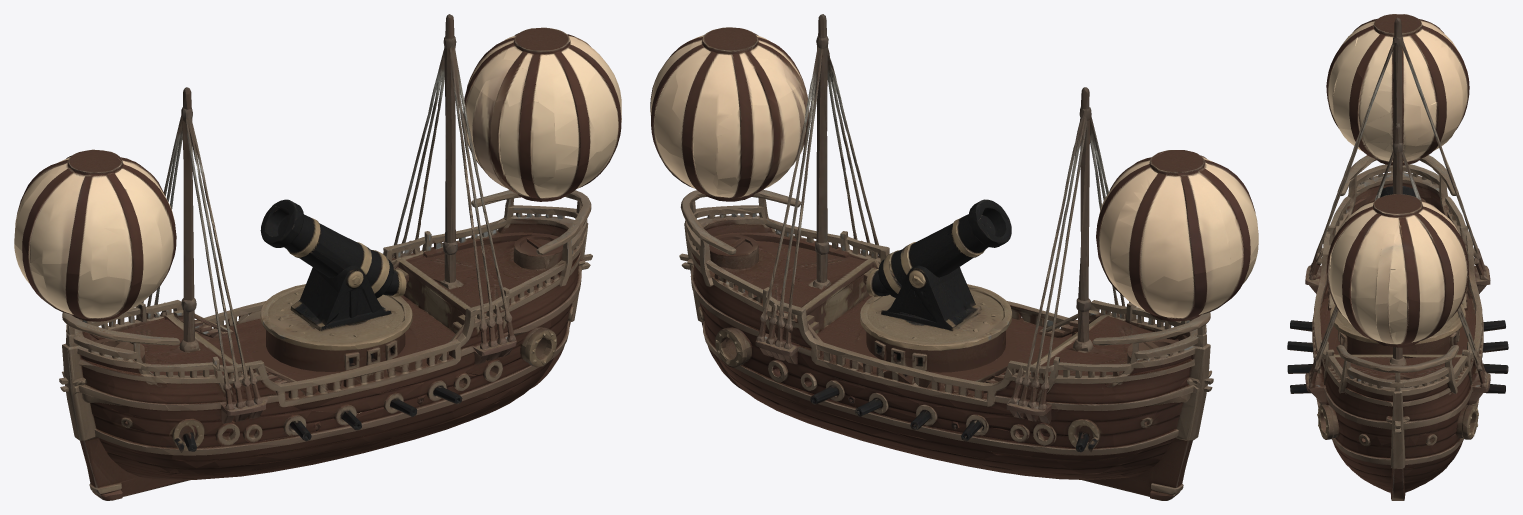
3 views of the same model, side by side, from view 1: azimuth 30°, elevation 25°; view 2: azimuth 150°, elevation 25°; view 3: azimuth 270°, elevation 25° (orthographic). The views are drawn at different scales.
Parts seen in each view (by area): view 1: Mesh_0; view 2: Mesh_0; view 3: Mesh_0.
Boxes of the visible parts, <box> form: Mesh_0: <box>14,14,621,500</box>; Mesh_0: <box>650,14,1258,500</box>; Mesh_0: <box>1287,14,1508,500</box>.
Bounding box in the file's own units: 1.9 × 1.24 × 0.7051.
Materials: 1 (1 with a texture image).
